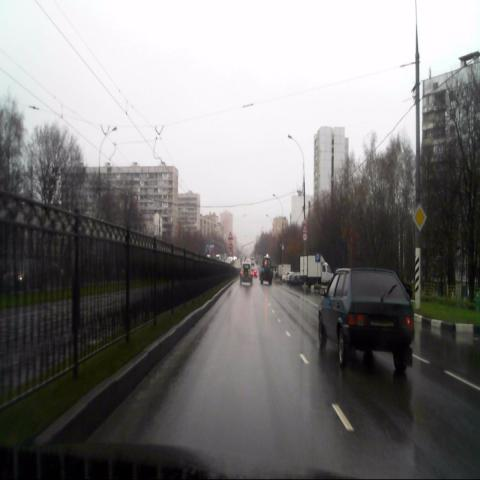2_1: (413, 203, 427, 231)
